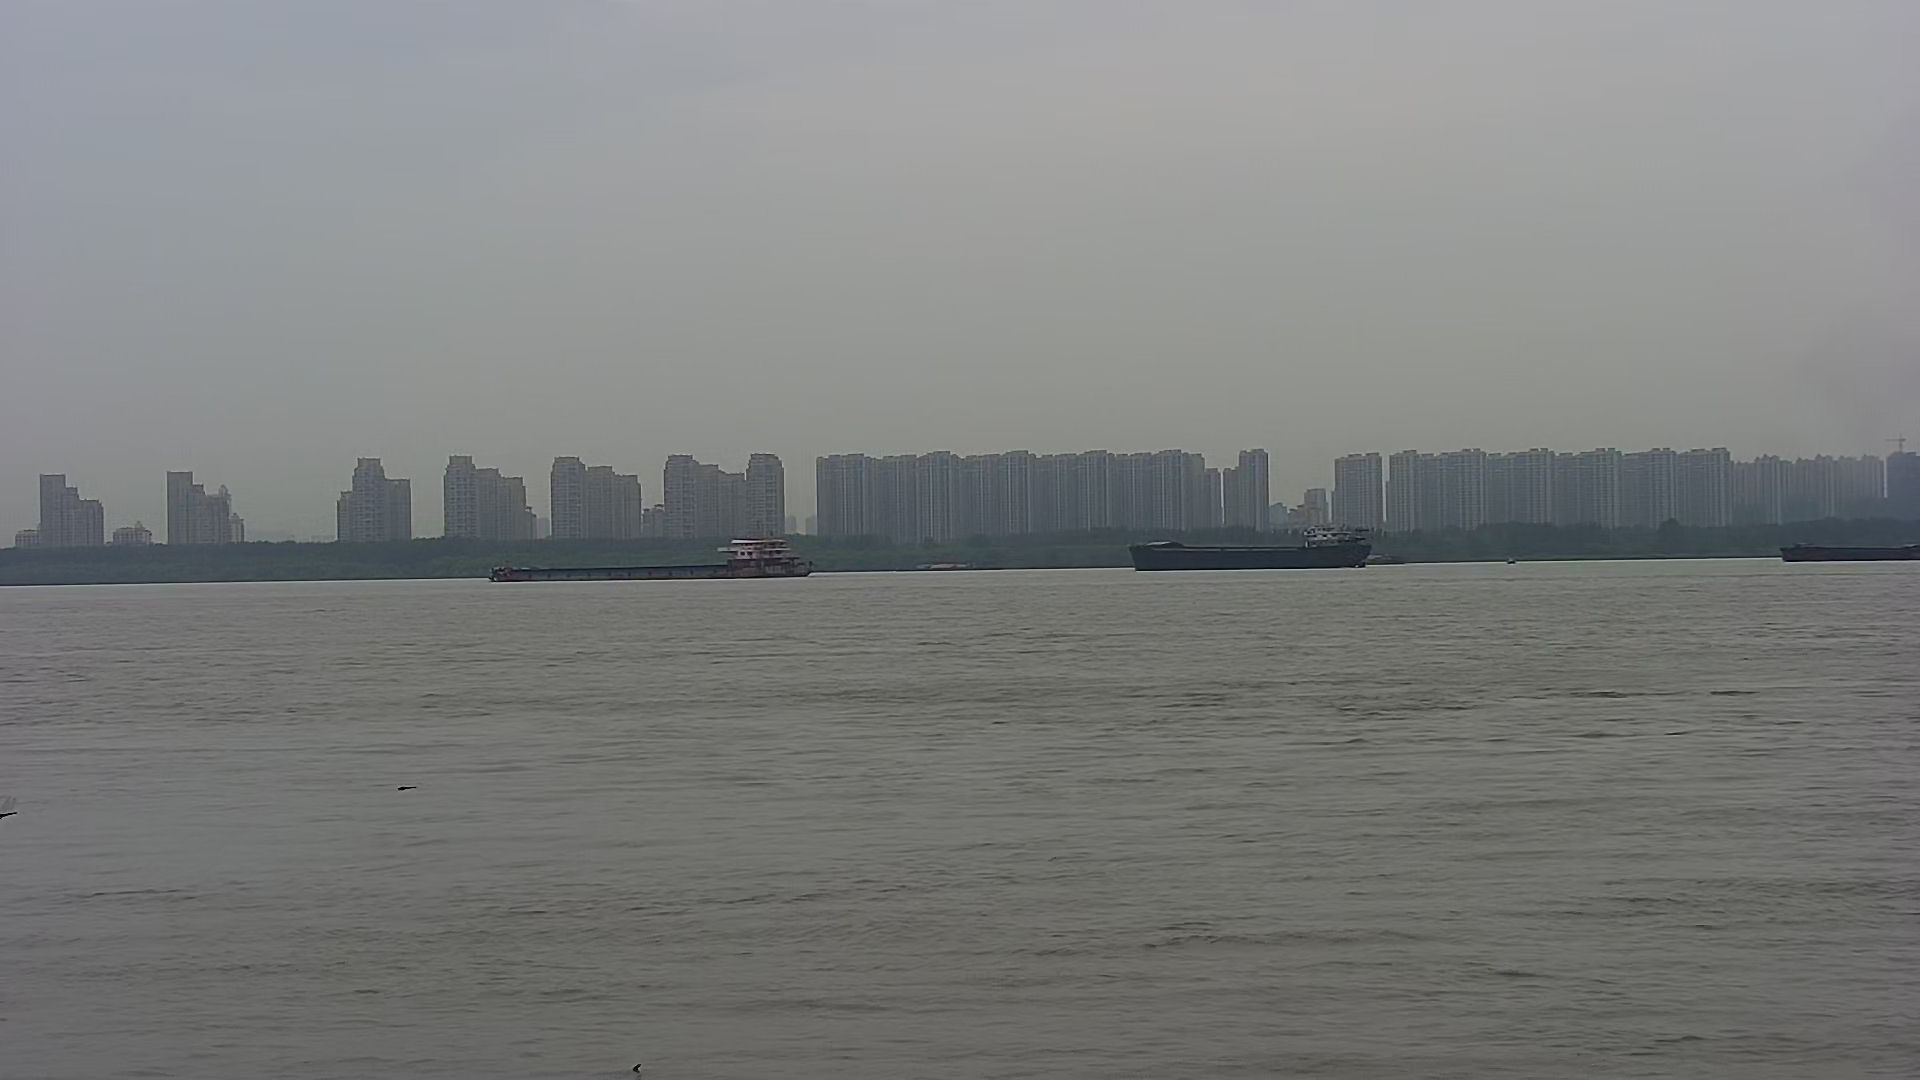ship: (491, 533, 816, 582), (1127, 513, 1387, 574), (1782, 524, 1920, 560)
